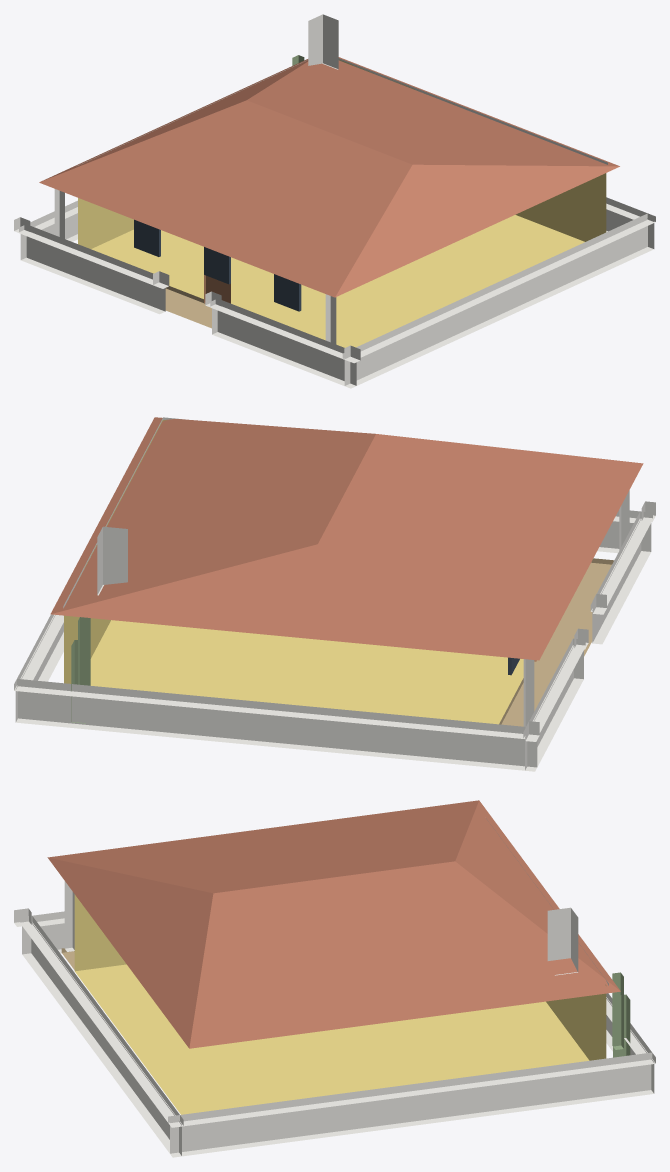
Rendered from cunucu_para_hip_b.glb.
The picture shows the model from 3 angles, top to bottom: view 1: azimuth 30°, elevation 25°; view 2: azimuth 150°, elevation 25°; view 3: azimuth 270°, elevation 25°; orthographic projection. The views are drawn at different scales.
Parts seen in each view (by area): view 1: cunucu_para_hip_b_lod0; view 2: cunucu_para_hip_b_lod0; view 3: cunucu_para_hip_b_lod0.
Boxes of the visible parts, left/top/right/bottom form: cunucu_para_hip_b_lod0: left=14, top=14, right=655, bottom=388; cunucu_para_hip_b_lod0: left=14, top=417, right=655, bottom=771; cunucu_para_hip_b_lod0: left=14, top=800, right=655, bottom=1157.
Size of what is drawn, in the model's own units: 18.39 by 5 by 18.49.
